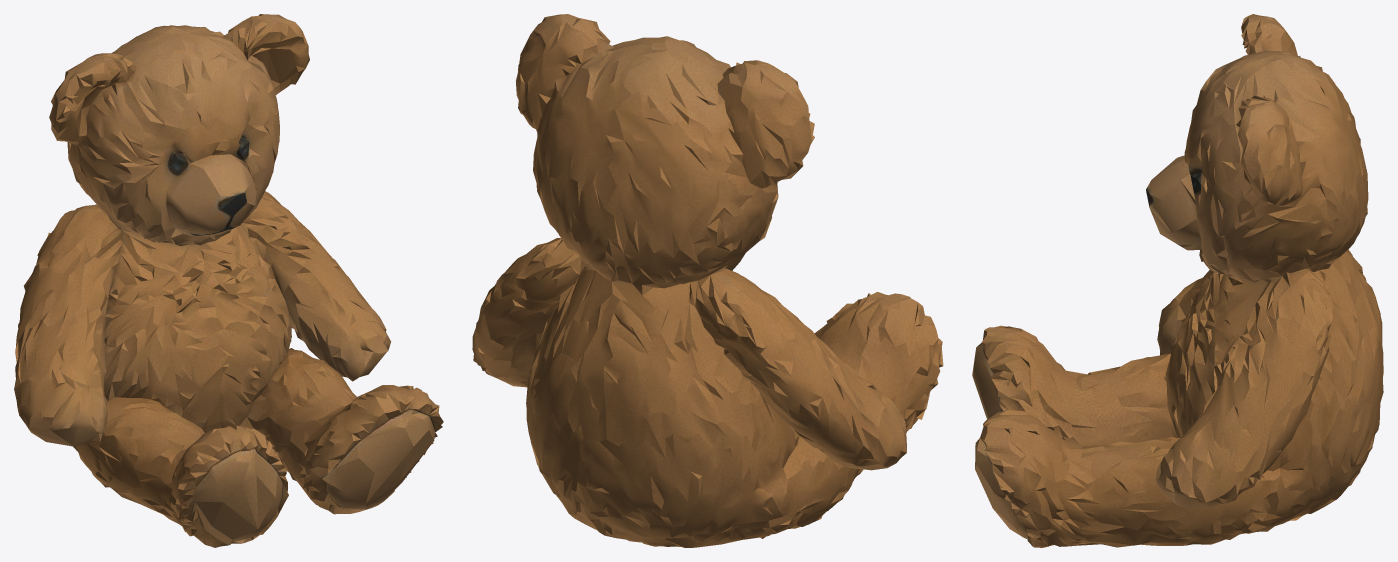
File: orsetto_N.glb
The picture shows the model from 3 angles, left to right: view 1: azimuth 30°, elevation 25°; view 2: azimuth 150°, elevation 25°; view 3: azimuth 270°, elevation 25°; orthographic projection. The views are drawn at different scales.
Visible parts, largest first — view 1: Mesh_0; view 2: Mesh_0; view 3: Mesh_0.
Part boxes in pixels (x1=…): Mesh_0: x1=14, y1=14, x2=443, y2=547; Mesh_0: x1=472, y1=14, x2=943, y2=547; Mesh_0: x1=972, y1=14, x2=1383, y2=547.
Size of the model in its own units: 0.3157 by 0.35 by 0.2941.
Materials: 1 (1 with a texture image).
